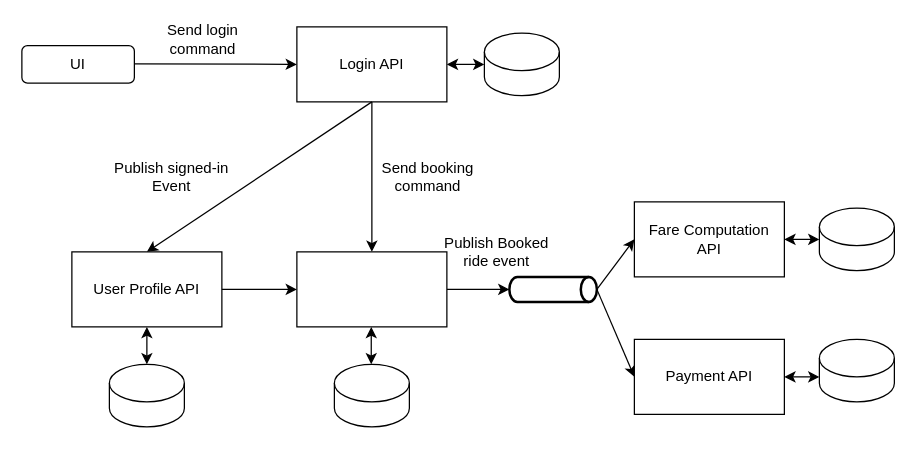
The diagram is 916 pixels wide and 449 high, and some of its shapes have lost their labels. The shapes that lost their labels are listed below. From the top down, each one's box as (x1, y1, x2, y2) in pixels, then its label:
(296, 251, 447, 327): Booking API
(508, 275, 598, 302): event Q
